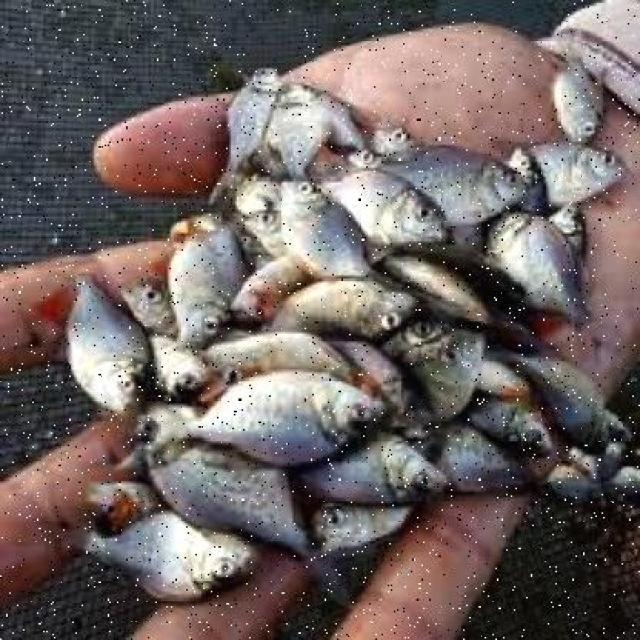ikan-pacu: (156, 440, 318, 562), (83, 512, 260, 606), (191, 372, 375, 462), (50, 269, 153, 411), (333, 161, 449, 254), (165, 214, 244, 338), (273, 182, 370, 270)
